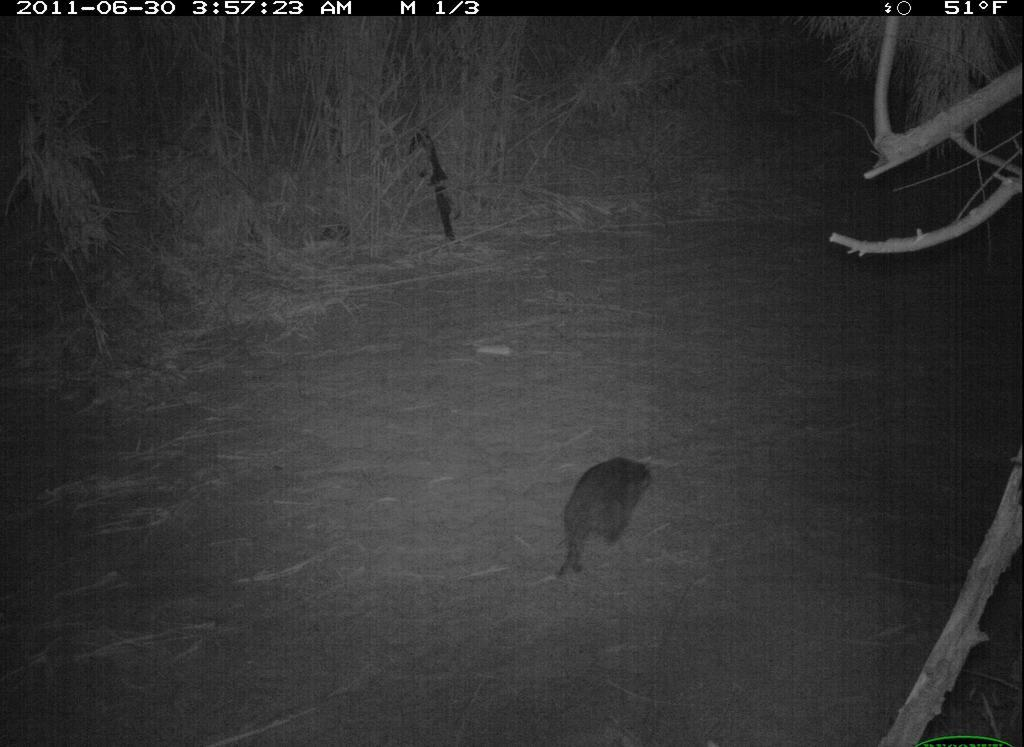raccoon: (545, 441, 664, 583)
